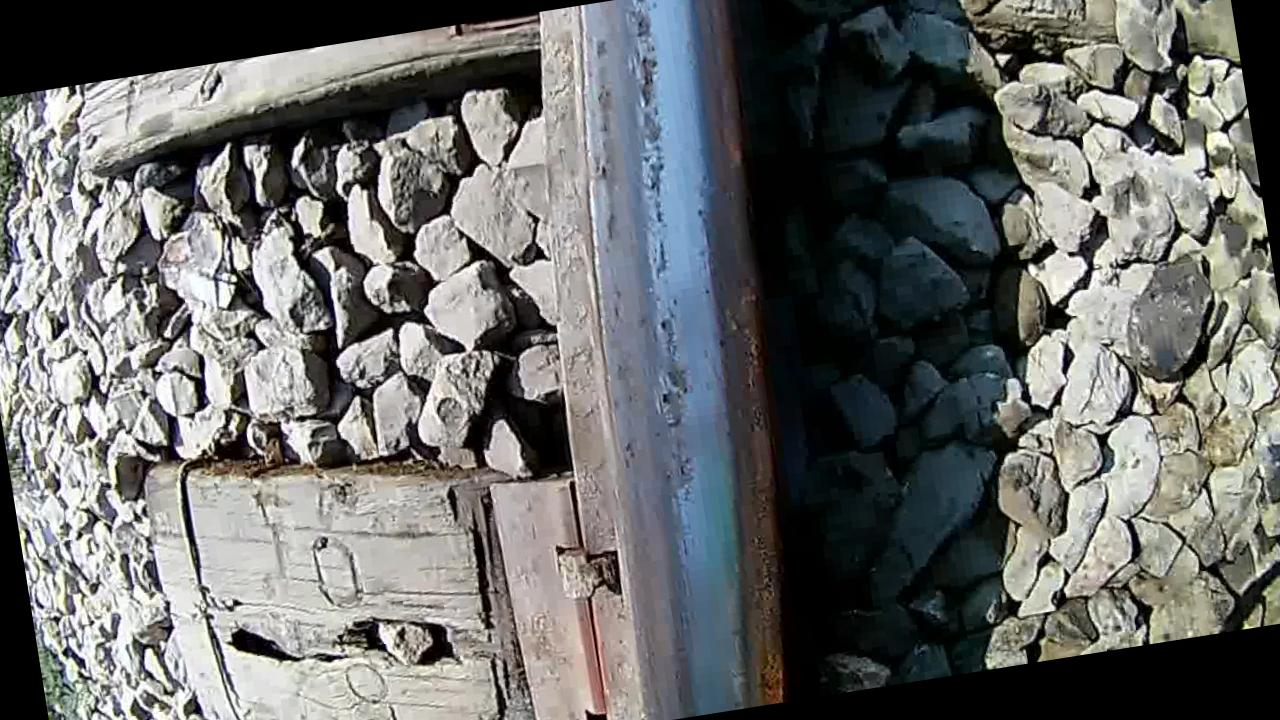crack: (547, 0, 835, 720)
